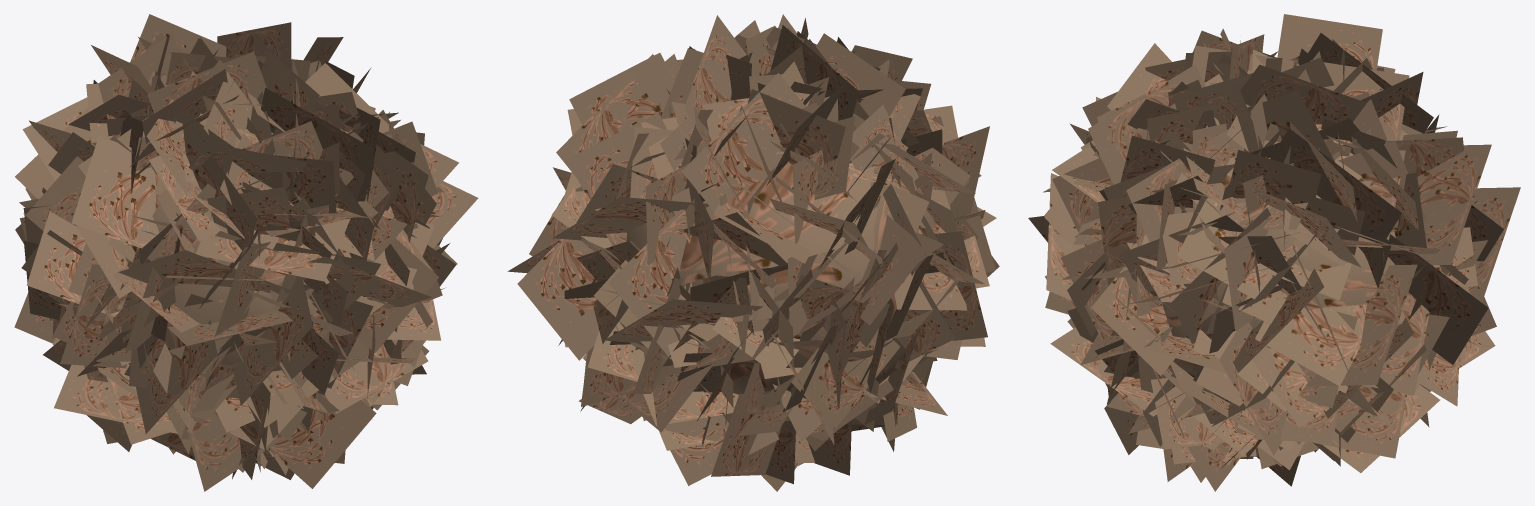
File: TumbleWeed_Lod2.fbx
3 views of the same model, side by side, from view 1: azimuth 30°, elevation 25°; view 2: azimuth 150°, elevation 25°; view 3: azimuth 270°, elevation 25° (orthographic).
Parts seen in each view (by area): view 1: TumbleWeed_LP|Plane|Dupli|103, TumbleWeed_LP|Plane|Dupli|239, TumbleWeed_LP, TumbleWeed_LP|Plane|Dupli|129, TumbleWeed_LP|Plane|Dupli|266, TumbleWeed_LP|Plane|Dupli|424, TumbleWeed_LP|Plane|Dupli|359, TumbleWeed_LP|Plane|Dupli|213, TumbleWeed_LP|Plane|Dupli|257, TumbleWeed_LP|Plane|Dupli|3, TumbleWeed_LP|Plane|Dupli|251, TumbleWeed_LP|Plane|Dupli|10 (+86 smaller); view 2: TumbleWeed_LP, TumbleWeed_LP|Plane|Dupli|196, TumbleWeed_LP|Plane|Dupli|68, TumbleWeed_LP|Plane|Dupli|324, TumbleWeed_LP|Plane|Dupli|82, TumbleWeed_LP|Plane|Dupli|192, TumbleWeed_LP|Plane|Dupli|116, TumbleWeed_LP|Plane|Dupli|127, TumbleWeed_LP|Plane|Dupli|64, TumbleWeed_LP|Plane|Dupli|320, TumbleWeed_LP|Plane|Dupli|168, TumbleWeed_LP|Plane|Dupli|76 (+79 smaller); view 3: TumbleWeed_LP, TumbleWeed_LP|Plane|Dupli|204, TumbleWeed_LP|Plane|Dupli|233, TumbleWeed_LP|Plane|Dupli|68, TumbleWeed_LP|Plane|Dupli|460, TumbleWeed_LP|Plane|Dupli|452, TumbleWeed_LP|Plane|Dupli|290, TumbleWeed_LP|Plane|Dupli|116, TumbleWeed_LP|Plane|Dupli|110, TumbleWeed_LP|Plane|Dupli|213, TumbleWeed_LP|Plane|Dupli|469, TumbleWeed_LP|Plane|Dupli|105 (+84 smaller).
Boxes of the visible parts, left/top/right/bottom form: TumbleWeed_LP|Plane|Dupli|103: left=71, top=136, right=159, bottom=248; TumbleWeed_LP|Plane|Dupli|239: left=268, top=394, right=376, bottom=488; TumbleWeed_LP: left=62, top=129, right=333, bottom=381; TumbleWeed_LP|Plane|Dupli|129: left=233, top=276, right=312, bottom=405; TumbleWeed_LP|Plane|Dupli|266: left=196, top=207, right=350, bottom=281; TumbleWeed_LP|Plane|Dupli|424: left=178, top=374, right=279, bottom=491; TumbleWeed_LP|Plane|Dupli|359: left=26, top=211, right=119, bottom=316; TumbleWeed_LP|Plane|Dupli|213: left=261, top=87, right=374, bottom=201; TumbleWeed_LP|Plane|Dupli|257: left=136, top=320, right=217, bottom=433; TumbleWeed_LP|Plane|Dupli|3: left=60, top=264, right=127, bottom=368; TumbleWeed_LP|Plane|Dupli|251: left=118, top=250, right=292, bottom=293; TumbleWeed_LP|Plane|Dupli|10: left=54, top=364, right=177, bottom=433; TumbleWeed_LP: left=619, top=134, right=936, bottom=421; TumbleWeed_LP|Plane|Dupli|196: left=682, top=73, right=805, bottom=217; TumbleWeed_LP|Plane|Dupli|68: left=517, top=239, right=598, bottom=360; TumbleWeed_LP|Plane|Dupli|324: left=609, top=199, right=692, bottom=359; TumbleWeed_LP|Plane|Dupli|82: left=791, top=328, right=899, bottom=428; TumbleWeed_LP|Plane|Dupli|192: left=569, top=53, right=674, bottom=128; TumbleWeed_LP|Plane|Dupli|116: left=684, top=15, right=746, bottom=123; TumbleWeed_LP|Plane|Dupli|127: left=804, top=33, right=905, bottom=127; TumbleWeed_LP|Plane|Dupli|64: left=567, top=112, right=666, bottom=246; TumbleWeed_LP|Plane|Dupli|320: left=663, top=414, right=778, bottom=485; TumbleWeed_LP|Plane|Dupli|168: left=747, top=89, right=845, bottom=164; TumbleWeed_LP|Plane|Dupli|76: left=604, top=299, right=762, bottom=343; TumbleWeed_LP: left=1162, top=124, right=1395, bottom=404; TumbleWeed_LP|Plane|Dupli|204: left=1417, top=144, right=1491, bottom=265; TumbleWeed_LP|Plane|Dupli|233: left=1255, top=304, right=1366, bottom=386; TumbleWeed_LP|Plane|Dupli|68: left=1388, top=234, right=1488, bottom=364; TumbleWeed_LP|Plane|Dupli|460: left=1305, top=264, right=1417, bottom=386; TumbleWeed_LP|Plane|Dupli|452: left=1270, top=128, right=1401, bottom=252; TumbleWeed_LP|Plane|Dupli|290: left=1091, top=265, right=1175, bottom=375; TumbleWeed_LP|Plane|Dupli|116: left=1240, top=64, right=1366, bottom=124; TumbleWeed_LP|Plane|Dupli|110: left=1277, top=14, right=1382, bottom=70; TumbleWeed_LP|Plane|Dupli|213: left=1088, top=64, right=1205, bottom=184; TumbleWeed_LP|Plane|Dupli|469: left=1126, top=126, right=1244, bottom=274; TumbleWeed_LP|Plane|Dupli|105: left=1177, top=197, right=1273, bottom=303.
Bounding box in the file's own units: 77.36 × 76.61 × 79.
